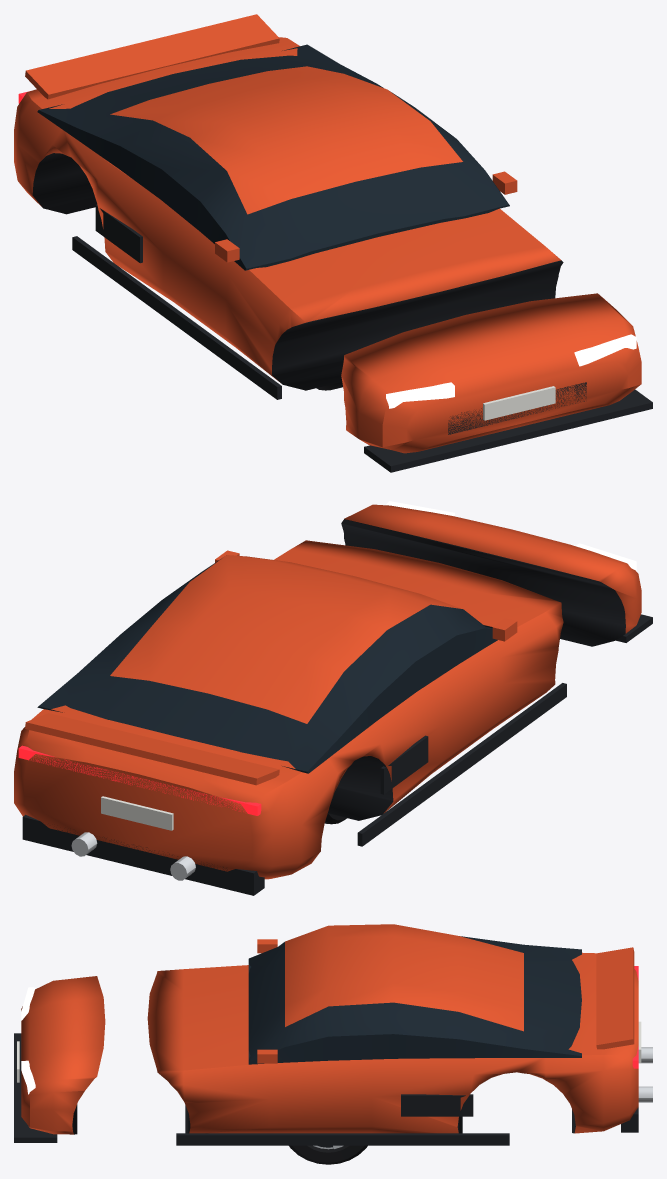
File: sport.glb
The picture shows the model from 3 angles, top to bottom: view 1: azimuth 30°, elevation 25°; view 2: azimuth 150°, elevation 25°; view 3: azimuth 270°, elevation 25°; orthographic projection. The views are drawn at different scales.
Visible parts, largest first — view 1: body; view 2: body; view 3: body, wheel.
Part boxes in pixels (left/top/right/bottom): body: left=14, top=14, right=652, bottom=472; body: left=14, top=501, right=652, bottom=895; body: left=14, top=924, right=652, bottom=1145; wheel: left=289, top=1145, right=367, bottom=1164.
Bounding box in the file's own units: 1.88 × 1.53 × 4.41.
